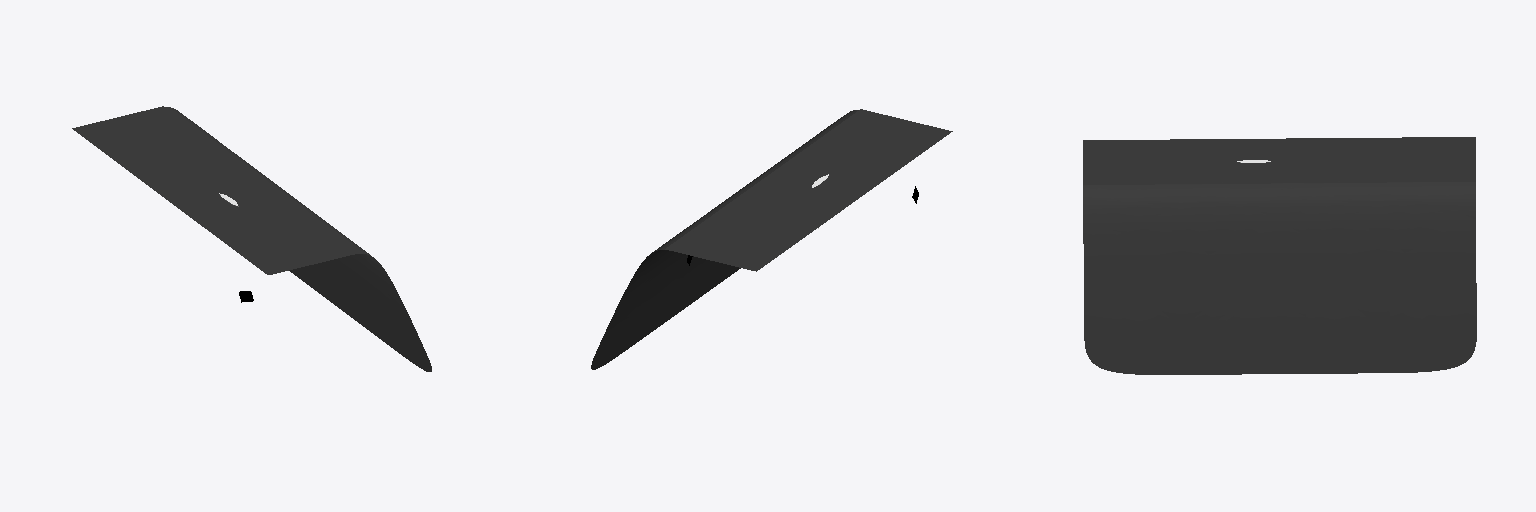
File: snow-old.obj
The picture shows the model from 3 angles: view 1: azimuth 30°, elevation 25°; view 2: azimuth 150°, elevation 25°; view 3: azimuth 270°, elevation 25°; orthographic projection.
Parts seen in each view (by area): view 1: pen_4.003_stilllife.002, pen_4.004_stilllife.003; view 2: pen_4.003_stilllife.002, pen_4.004_stilllife.003; view 3: pen_4.004_stilllife.003, pen_4.003_stilllife.002.
Part boxes in pixels (left/top/right/bottom): pen_4.003_stilllife.002: left=72, top=106, right=358, bottom=274; pen_4.004_stilllife.003: left=155, top=107, right=431, bottom=371; pen_4.003_stilllife.002: left=665, top=109, right=952, bottom=271; pen_4.004_stilllife.003: left=591, top=110, right=869, bottom=369; pen_4.004_stilllife.003: left=1083, top=177, right=1476, bottom=374; pen_4.003_stilllife.002: left=1083, top=137, right=1475, bottom=184.
Bounding box in the file's own units: 306 × 260 × 604.